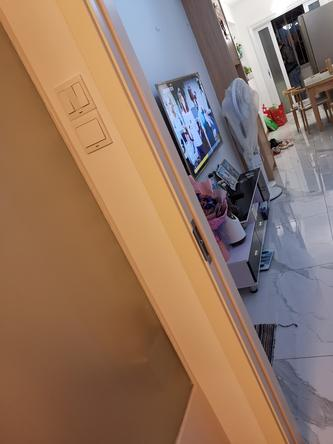switch: (77, 125, 105, 148), (66, 91, 87, 112), (59, 96, 72, 119), (77, 83, 89, 102)
